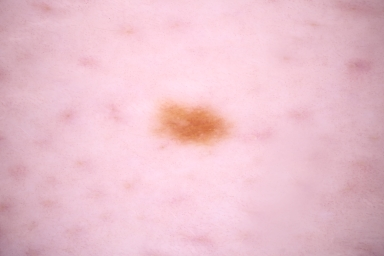nevus: (156, 100, 232, 142)
